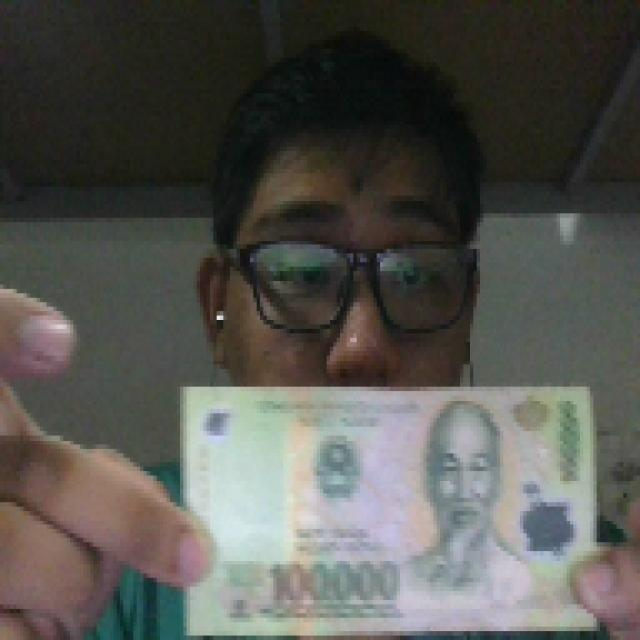100 000 VND: (173, 378, 607, 636)
